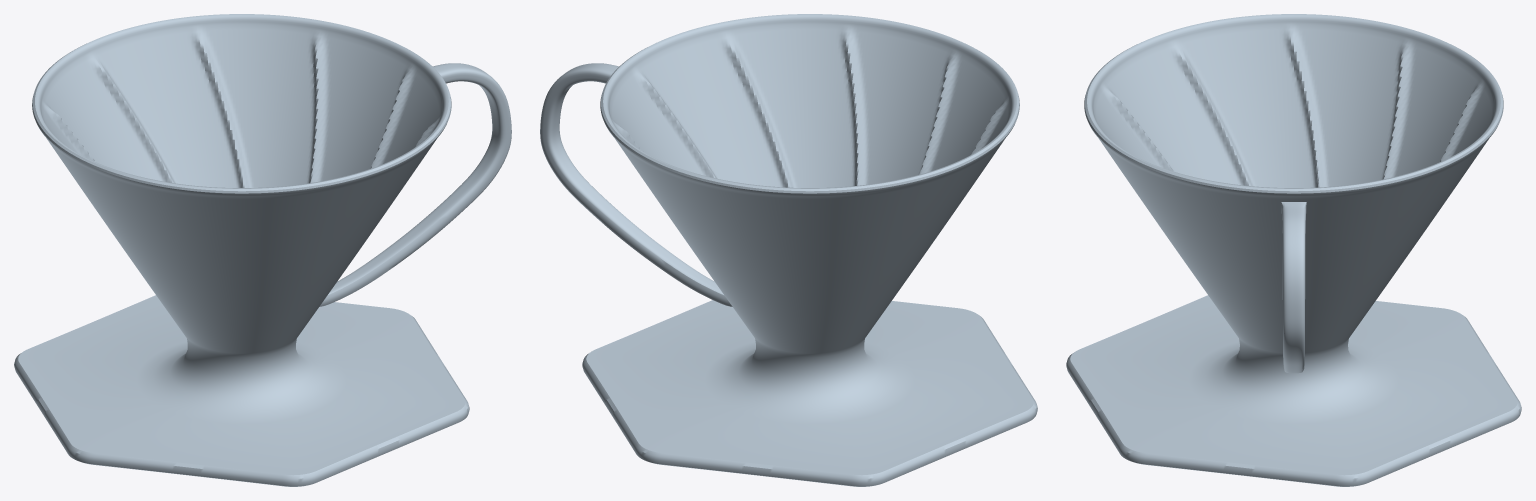
3 views of the same model, side by side, from view 1: azimuth 30°, elevation 25°; view 2: azimuth 150°, elevation 25°; view 3: azimuth 270°, elevation 25° (orthographic).
Visible parts, largest first — view 1: part_000_Integral_ribbed_dripper; view 2: part_000_Integral_ribbed_dripper; view 3: part_000_Integral_ribbed_dripper.
Boxes of the visible parts, <box> form: part_000_Integral_ribbed_dripper: <box>14,14,511,486</box>; part_000_Integral_ribbed_dripper: <box>540,14,1037,486</box>; part_000_Integral_ribbed_dripper: <box>1066,14,1521,486</box>.
Bounding box in the file's own units: 0.1272 × 0.085 × 0.1083.
